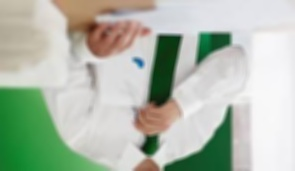ink: (133, 58, 145, 69)
